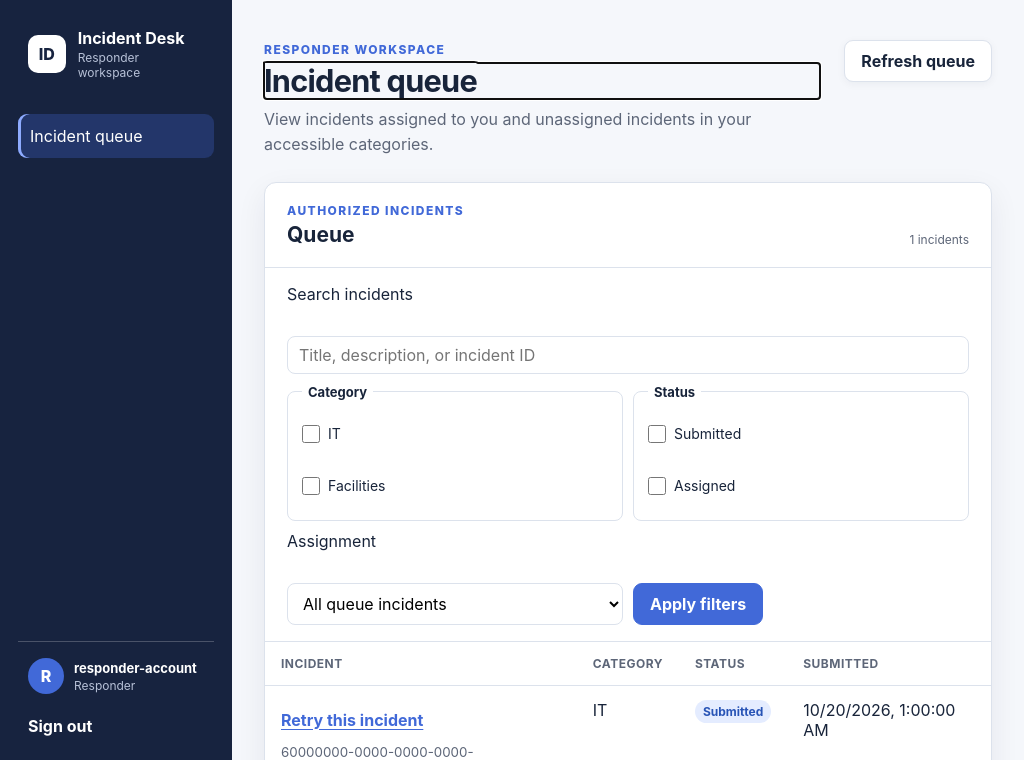
Test: Responder incident queue › retries a failed detail request and focuses the page heading on navigation
Click the button with aria-label "View details for Retry this incident".
click(352, 720)  # box x1=281 y1=700 x2=423 y2=740
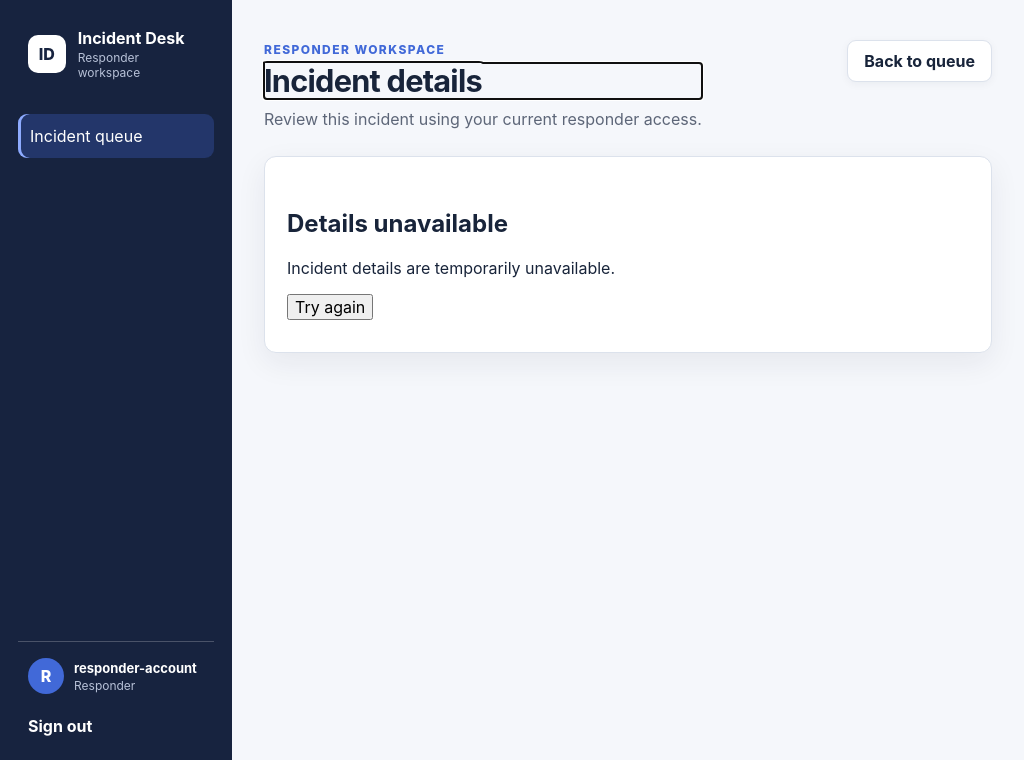
Result: the heading "Details unavailable" is shown at x1=287 y1=209 x2=508 y2=238
Click the button "Try again".
click(330, 307)  # box x1=287 y1=294 x2=373 y2=320
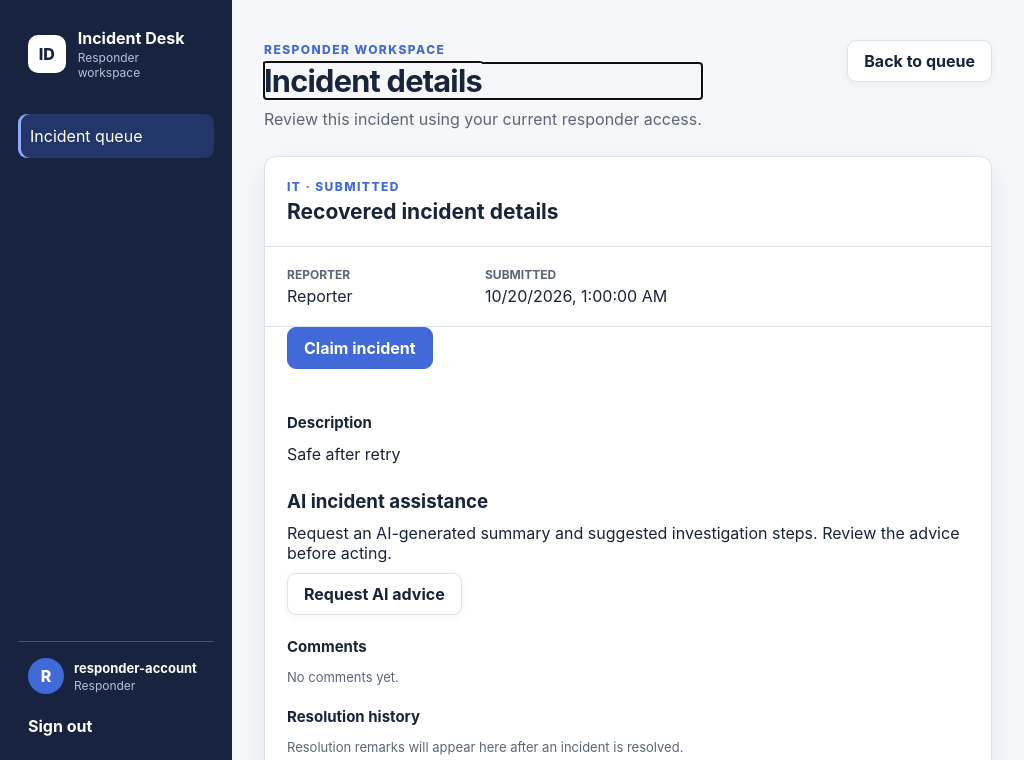
Result: the heading "Recovered incident details" is shown at x1=287 y1=199 x2=559 y2=224
Click the button "Back to queue".
click(920, 61)  # box x1=847 y1=40 x2=992 y2=82
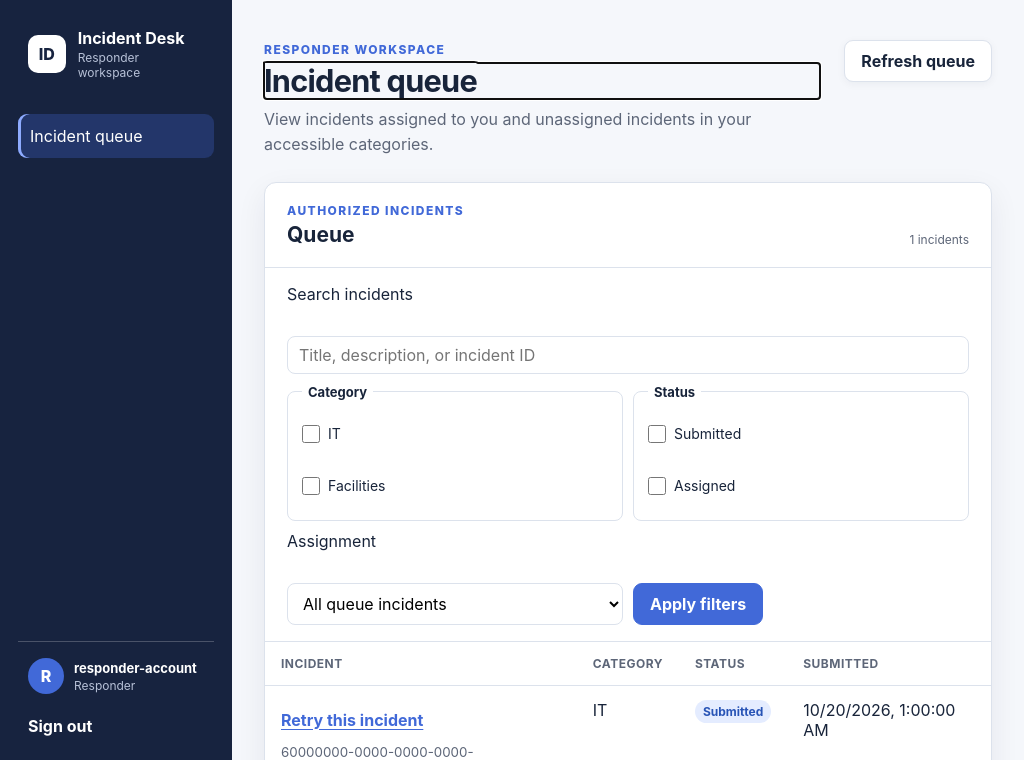
Result: the button with aria-label "View details for Retry this incident" is shown at x1=281 y1=700 x2=423 y2=740
